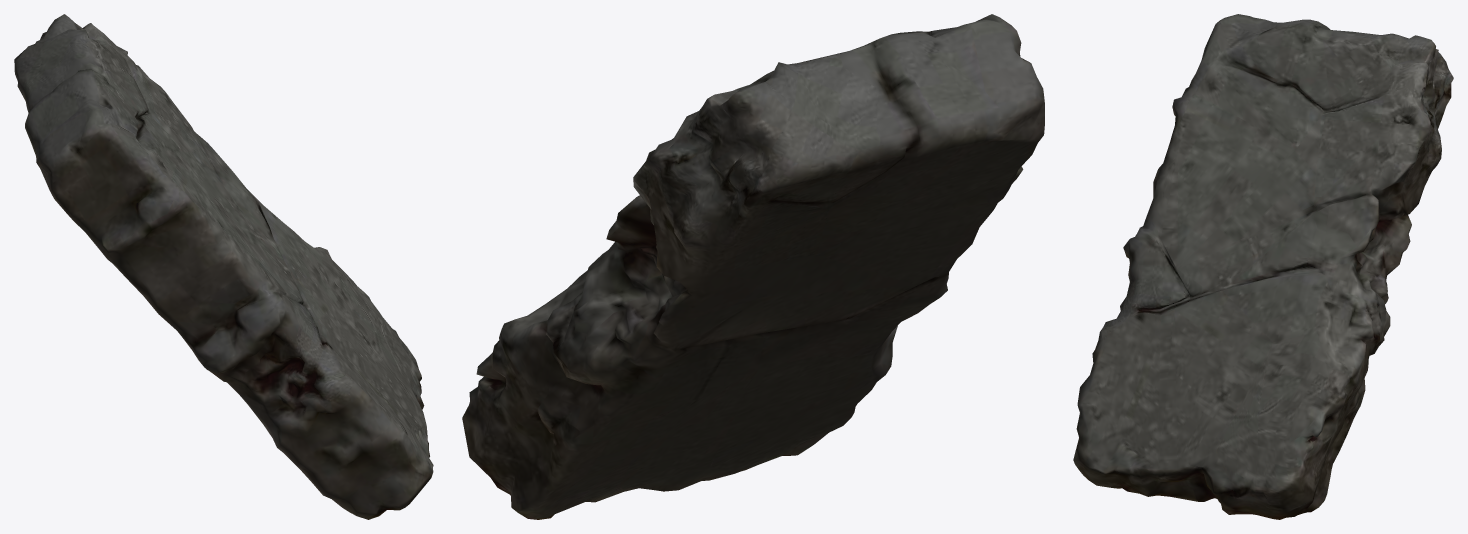
Rendered from spire.glb.
The picture shows the model from 3 angles, left to right: view 1: azimuth 30°, elevation 25°; view 2: azimuth 150°, elevation 25°; view 3: azimuth 270°, elevation 25°; orthographic projection. The views are drawn at different scales.
Parts seen in each view (by area): view 1: tripo_node_4b0013c1-5072-4e4e-a7d5-55d5642f29c2; view 2: tripo_node_4b0013c1-5072-4e4e-a7d5-55d5642f29c2; view 3: tripo_node_4b0013c1-5072-4e4e-a7d5-55d5642f29c2.
Part boxes in pixels (x1=…): tripo_node_4b0013c1-5072-4e4e-a7d5-55d5642f29c2: x1=14, y1=14, x2=433, y2=519; tripo_node_4b0013c1-5072-4e4e-a7d5-55d5642f29c2: x1=462, y1=14, x2=1044, y2=519; tripo_node_4b0013c1-5072-4e4e-a7d5-55d5642f29c2: x1=1073, y1=14, x2=1453, y2=519.
Bounding box in the file's own units: 0.9668 × 0.998 × 0.8926.
1 material, 1 textured.
